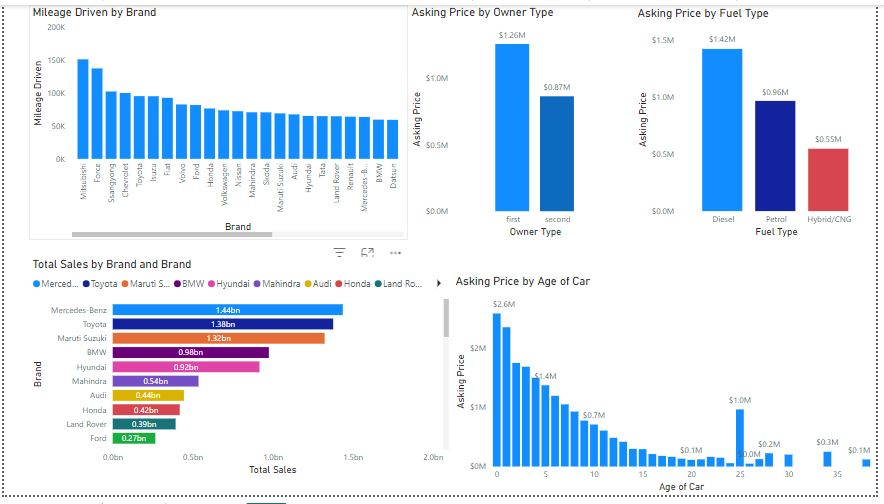

The dashboard page shown, as its layout file describes it:
{"tool":"powerbi","page":{"name":"Second","canvas":[1280,720],"ordinal":1},"visuals":[{"type":"clusteredColumnChart","fields":{"Y":["Avg(UsedCar.NewKmDriven)"],"Category":["UsedCar.Brand"]},"box":[37,0,556,346],"z":0},{"type":"barChart","fields":{"Y":["UsedCar.Total Sales"],"Category":["UsedCar.Brand"],"Series":["UsedCar.Brand"]},"box":[37,369.6,621.5,325.9],"z":1000},{"type":"columnChart","fields":{"Category":["UsedCar.Age"],"Y":["Avg(UsedCar.NewAskPrice)"]},"box":[658.5,394.8,621.5,325.9],"z":2000},{"type":"columnChart","fields":{"Category":["UsedCar.Owner"],"Y":["Avg(UsedCar.NewAskPrice)"]},"box":[593,0,310.8,346],"z":3000},{"type":"columnChart","fields":{"Category":["UsedCar.FuelType"],"Y":["Avg(UsedCar.NewAskPrice)"]},"box":[925.6,1.7,354.4,344.4],"z":4000}]}

Visuals, with their boxes in screenshot pixels (x1, y1, x2, y2), scaled from the page's 1280x720 canvas onto the 884x504 screenshot:
clusteredColumnChart - Avg(UsedCar.NewKmDriven) x UsedCar.Brand: 26 0 410 242
barChart - UsedCar.Total Sales x UsedCar.Brand: 26 259 455 487
columnChart - UsedCar.Age x Avg(UsedCar.NewAskPrice): 455 276 883 503
columnChart - UsedCar.Owner x Avg(UsedCar.NewAskPrice): 410 0 624 242
columnChart - UsedCar.FuelType x Avg(UsedCar.NewAskPrice): 639 1 883 242
